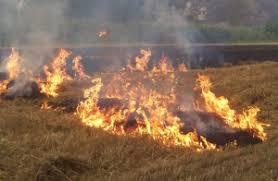fire: (48, 44, 267, 150)
